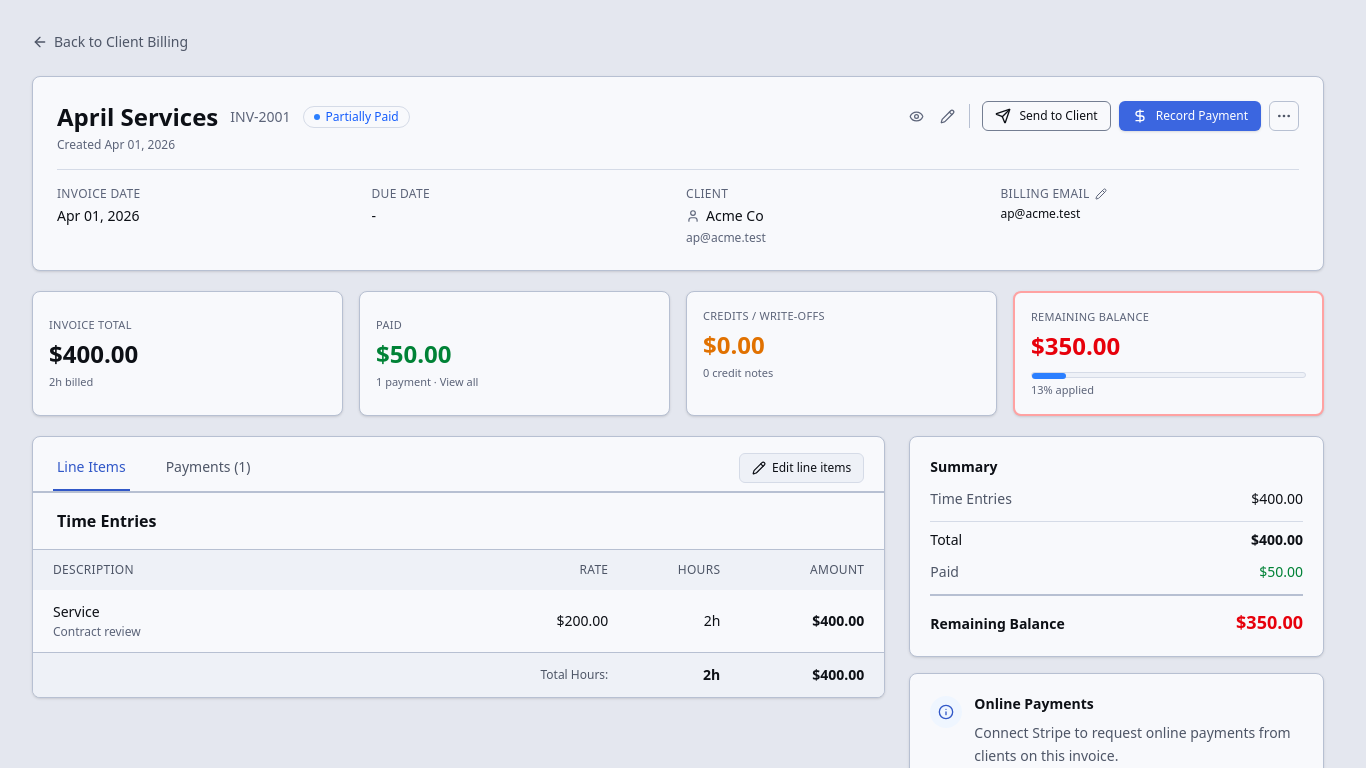
Test: editing a payment › reports a refused edit inside the dialog only
Click the button "Payments (1)" at (208, 468), box [162, 445, 254, 491]
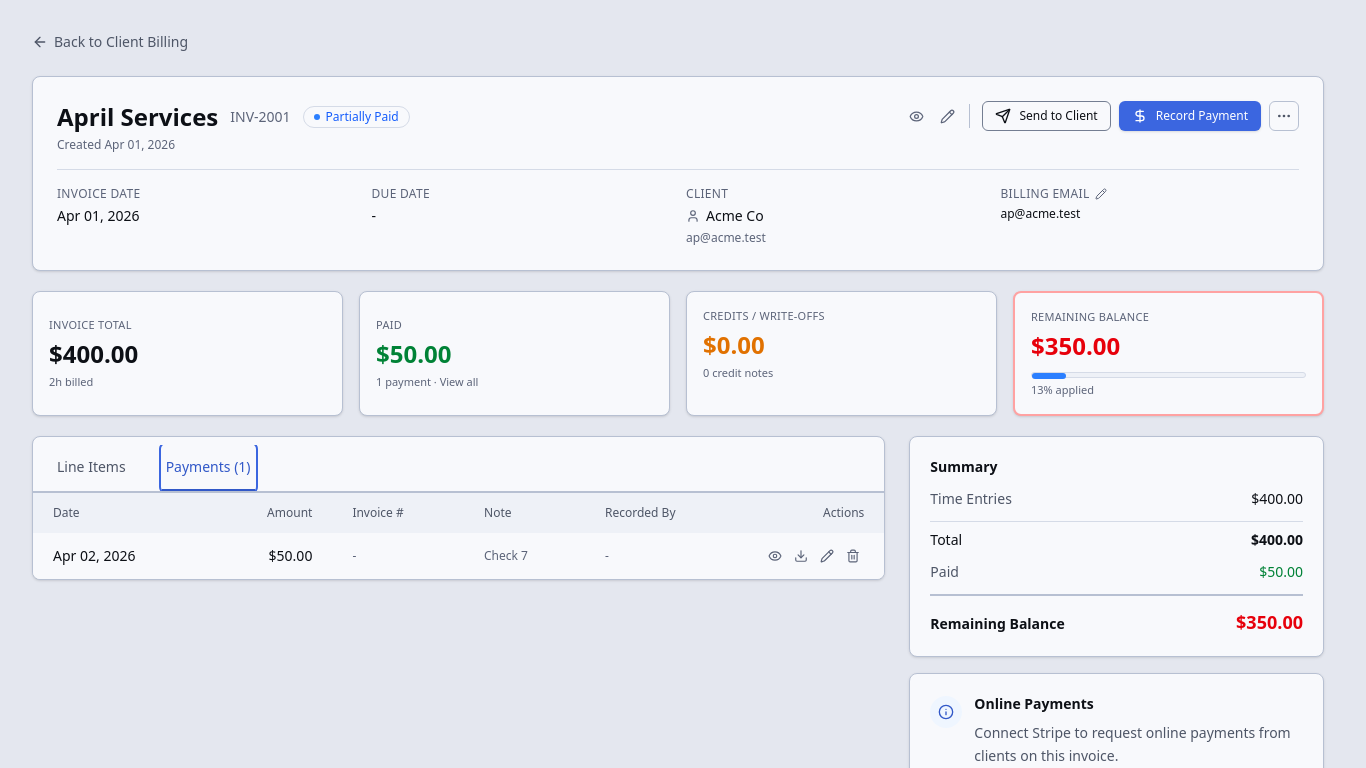
Click the button named "Edit payment" at (827, 556), box [816, 545, 838, 567]
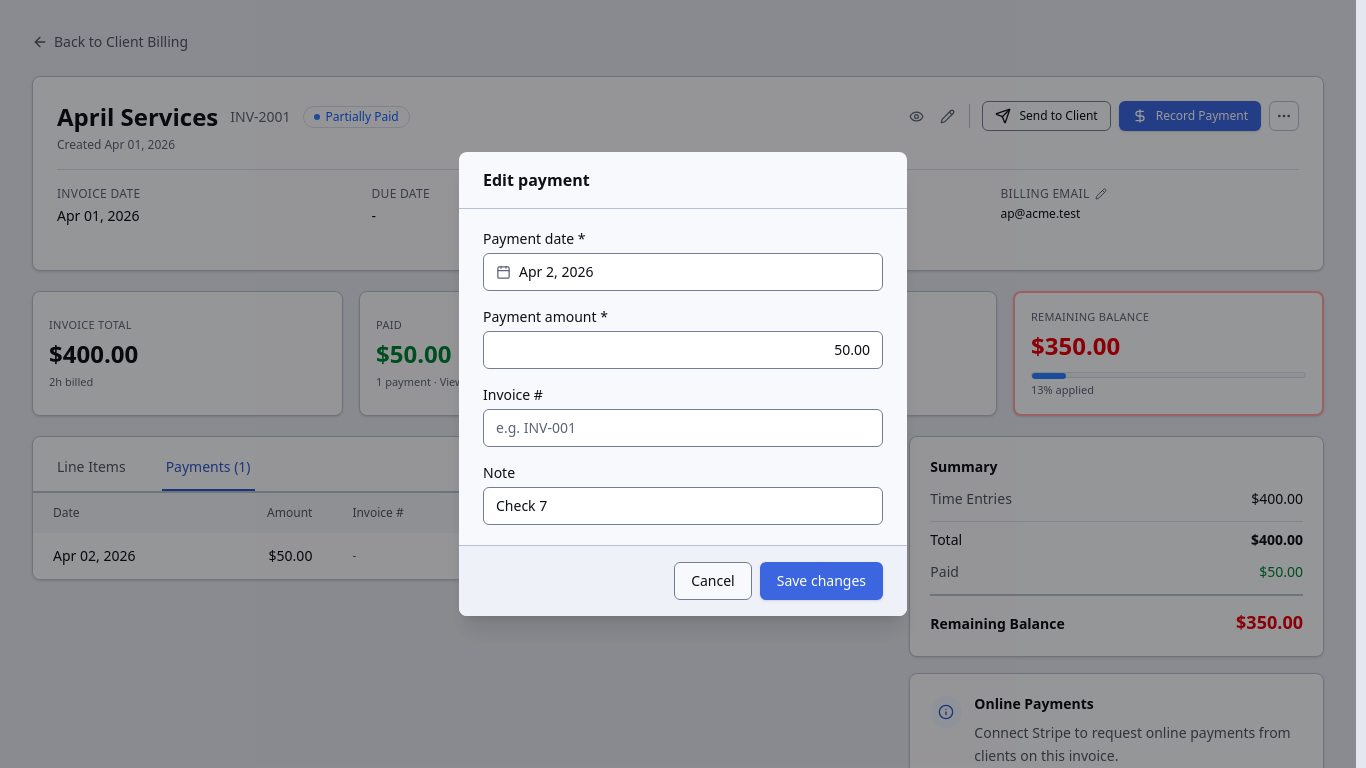
Click the button "Save changes" at (821, 581), box [760, 562, 883, 600]
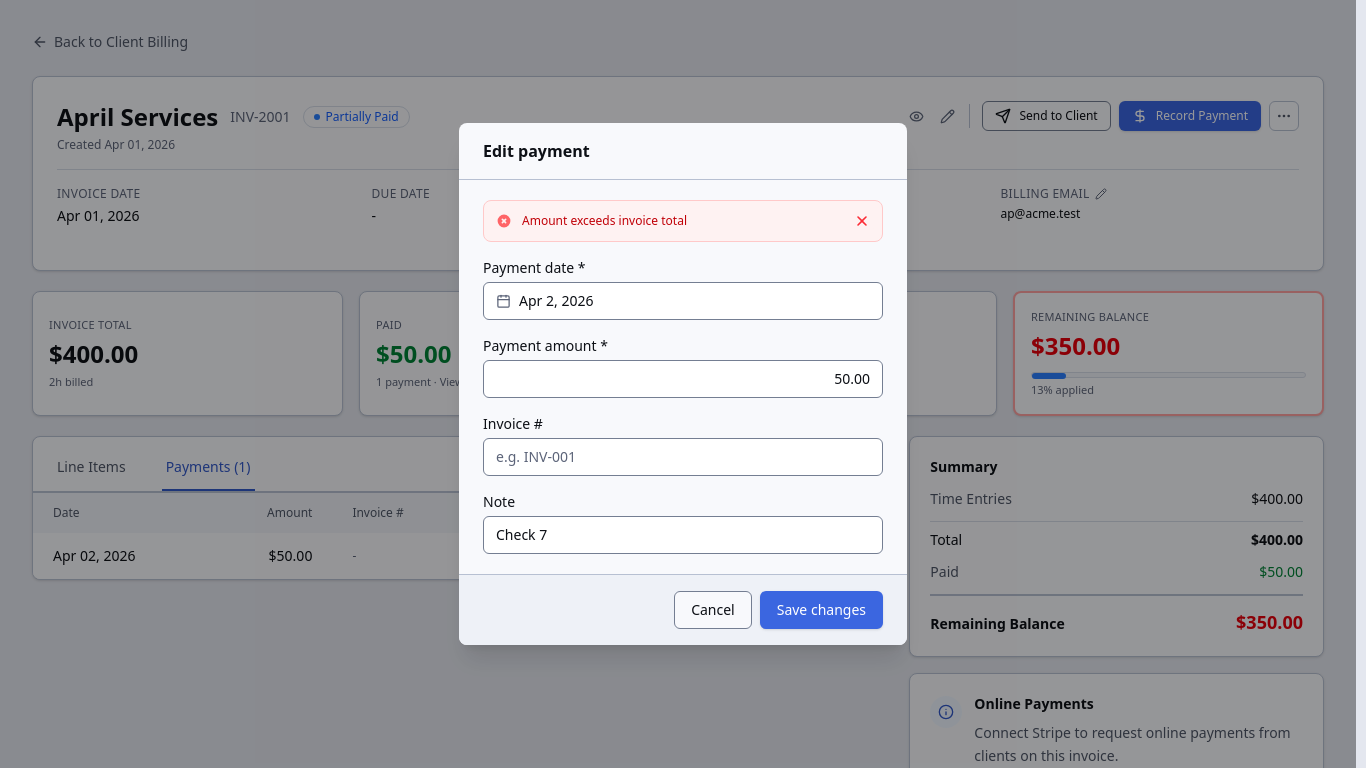
Expected: the text "Amount exceeds invoice total" is shown once, [522, 212, 687, 229]
